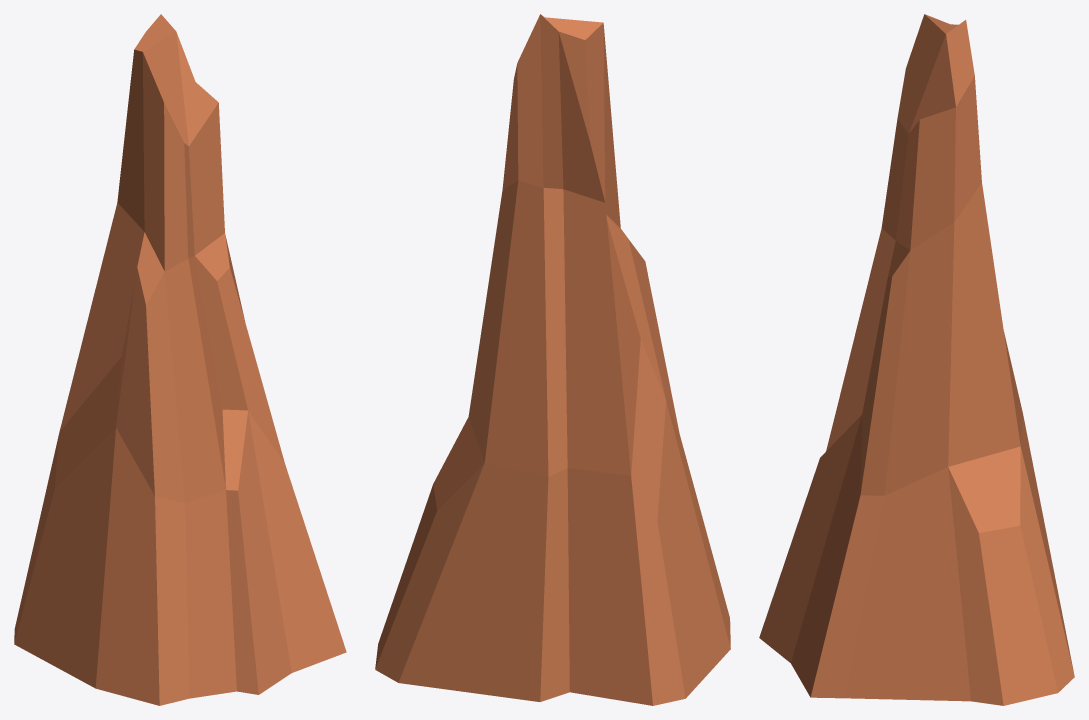
The model's file is Stalagmite_3.fbx.
3 renders of one model, left to right at view 1: azimuth 30°, elevation 25°; view 2: azimuth 150°, elevation 25°; view 3: azimuth 270°, elevation 25°, orthographic. The views are drawn at different scales.
Visible parts, largest first — view 1: Stalagmite_3; view 2: Stalagmite_3; view 3: Stalagmite_3.
Boxes of the visible parts, box(x1,y1,x2,y2) form: Stalagmite_3: box(14, 14, 346, 705); Stalagmite_3: box(375, 14, 730, 705); Stalagmite_3: box(759, 14, 1074, 705).
Size of the model in its own units: 126 by 267 by 123.
